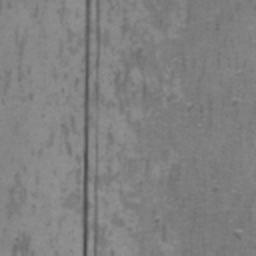Scratches: (82, 0, 91, 256), (94, 222, 99, 256), (20, 236, 30, 251), (112, 214, 124, 226), (114, 72, 120, 93), (96, 0, 101, 22), (107, 132, 114, 145)
